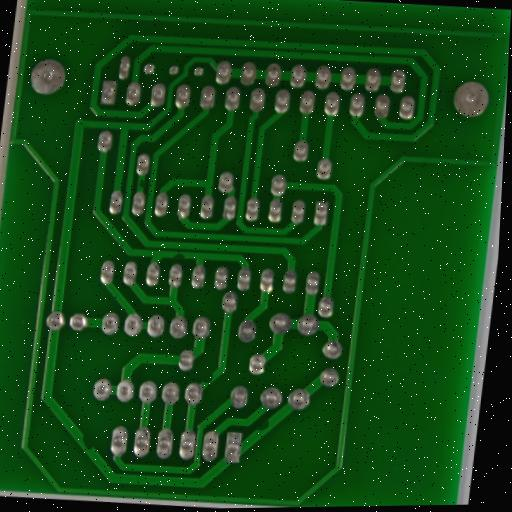mouse_bite: (251, 415, 276, 437), (75, 433, 97, 455), (197, 371, 217, 387), (168, 250, 188, 264), (133, 178, 148, 190)
